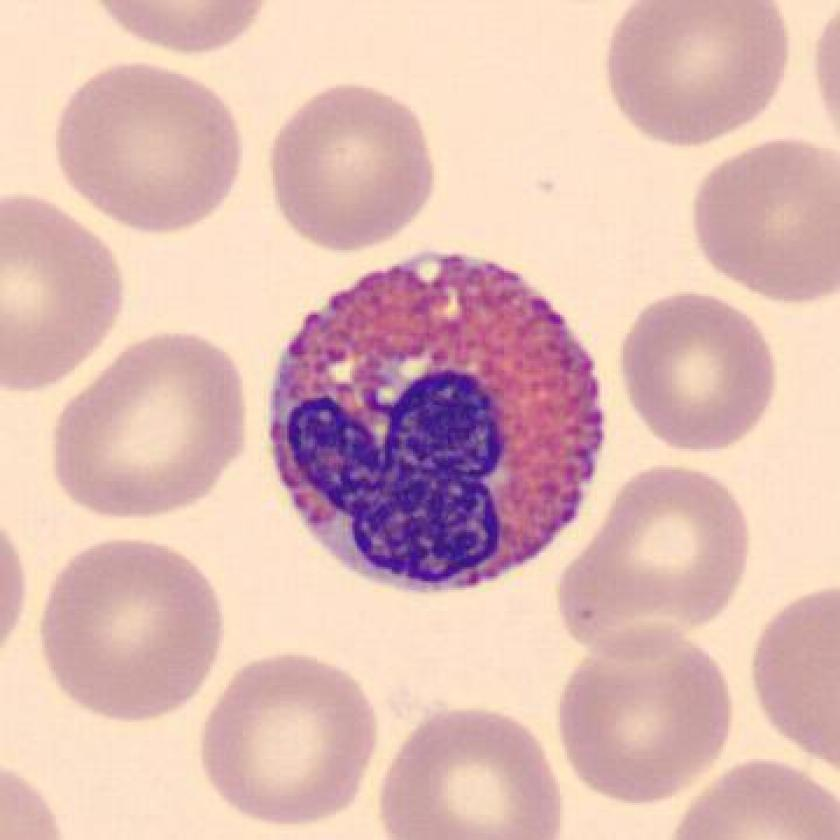eosinophil: (253, 237, 617, 610)
